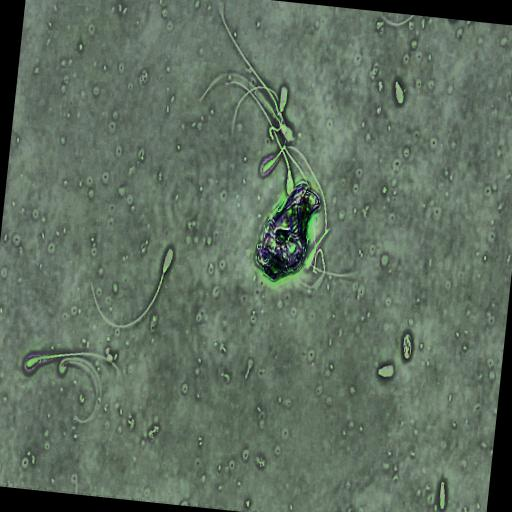coiled-tail: (404, 334, 411, 360), (404, 337, 411, 358)
dirt-particles: (253, 179, 321, 287)
folded-tail: (269, 112, 282, 140)
loose-head: (377, 360, 396, 381), (393, 77, 406, 107), (438, 477, 447, 512)
normal: (224, 79, 295, 198), (89, 246, 175, 331), (25, 351, 122, 381), (269, 86, 288, 140), (402, 330, 413, 362)
